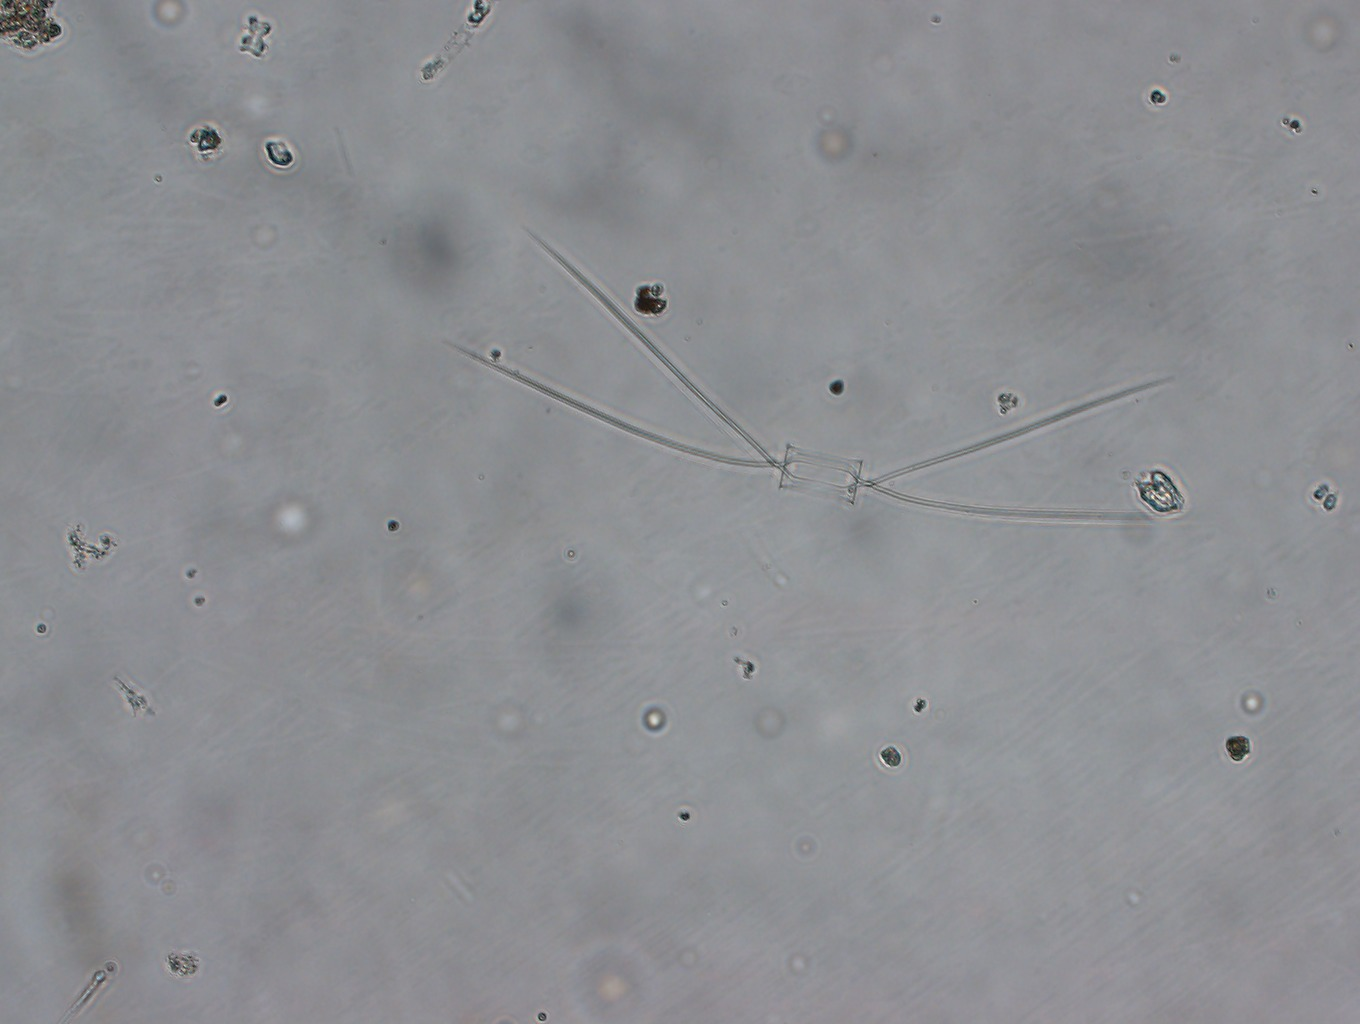chaetoceros: (442, 205, 1178, 529)
